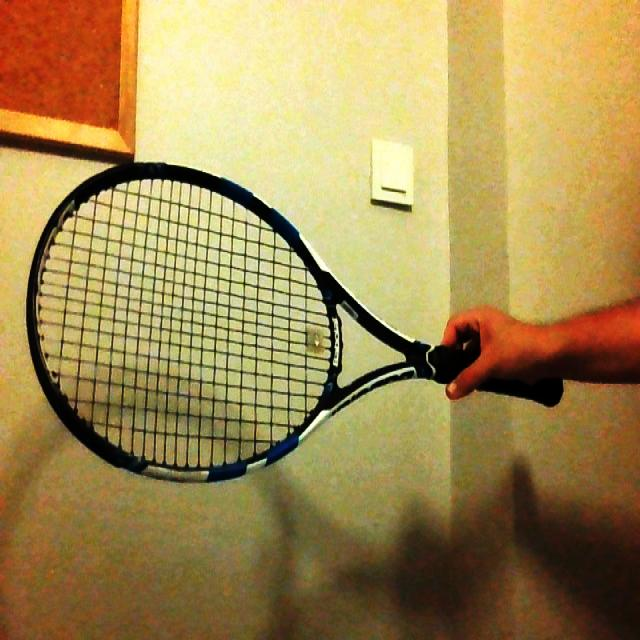TennisRacket: (26, 158, 563, 486)
